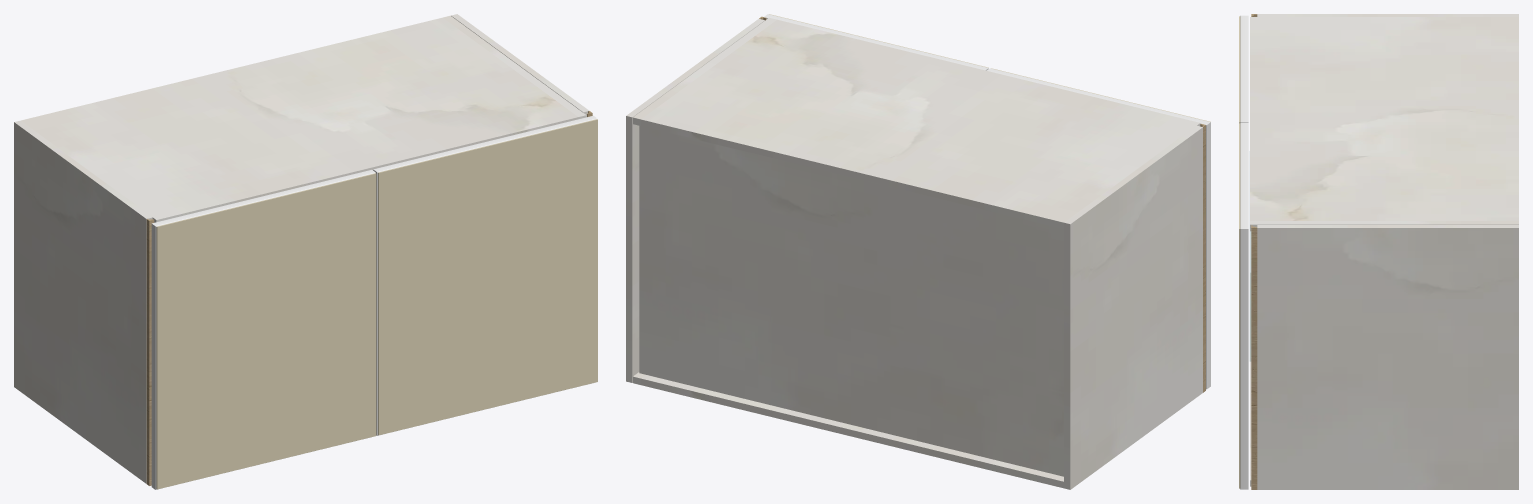
The model's file is WALL LOFT BLIND CABINET 1 SHELF (H600xW1050xD560) S450_WLBC1GS1HS_LH.glb.
3 renders of one model, left to right at view 1: azimuth 30°, elevation 25°; view 2: azimuth 150°, elevation 25°; view 3: azimuth 270°, elevation 25°, orthographic.
Size of what is drawn, in the model's own units: 1.05 by 0.6 by 0.5809.
Materials: 7 (2 with a texture image).
